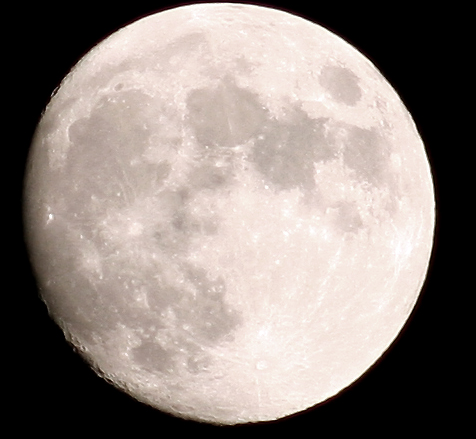crater: (198, 298, 311, 399), (97, 188, 177, 275), (370, 133, 404, 179), (267, 248, 291, 276), (98, 76, 126, 94), (211, 150, 230, 175), (41, 211, 60, 232), (223, 200, 240, 215)
